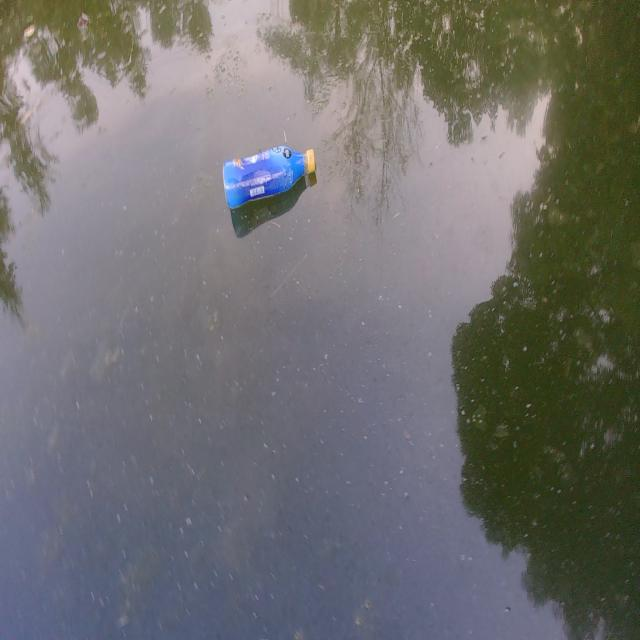Bottle: (220, 140, 318, 210)
